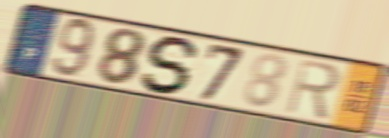7: (200, 41, 246, 104)
8: (94, 25, 149, 87), (242, 51, 290, 113)
9: (48, 16, 97, 81)
R: (283, 57, 343, 122)
S: (138, 34, 203, 96)
